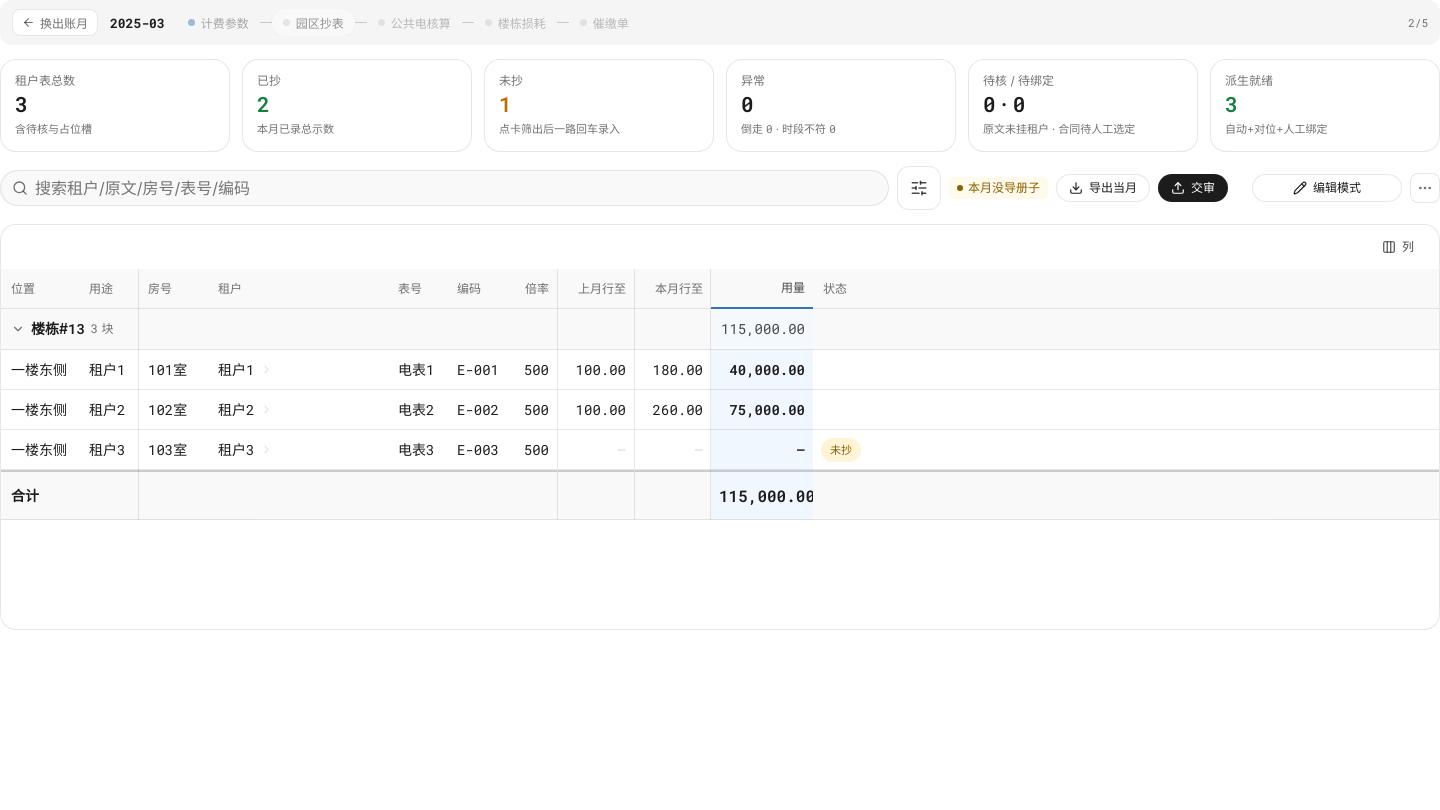
Scenario: METER-TIMELINE-SPEC §10.4 · 本月册子:整段零记录出一句,部分有逐行打标 › ❗M 档 · 整段零记录:签在筛选条里(M 档没有摘要行),不另起一行
The width and height of the screenshot is (1440, 810).
What coordinates should you click on to do the following:
click the button with class "mt5-note"
I would click on:
 (998, 188)
Its box is [949,177,1048,199].
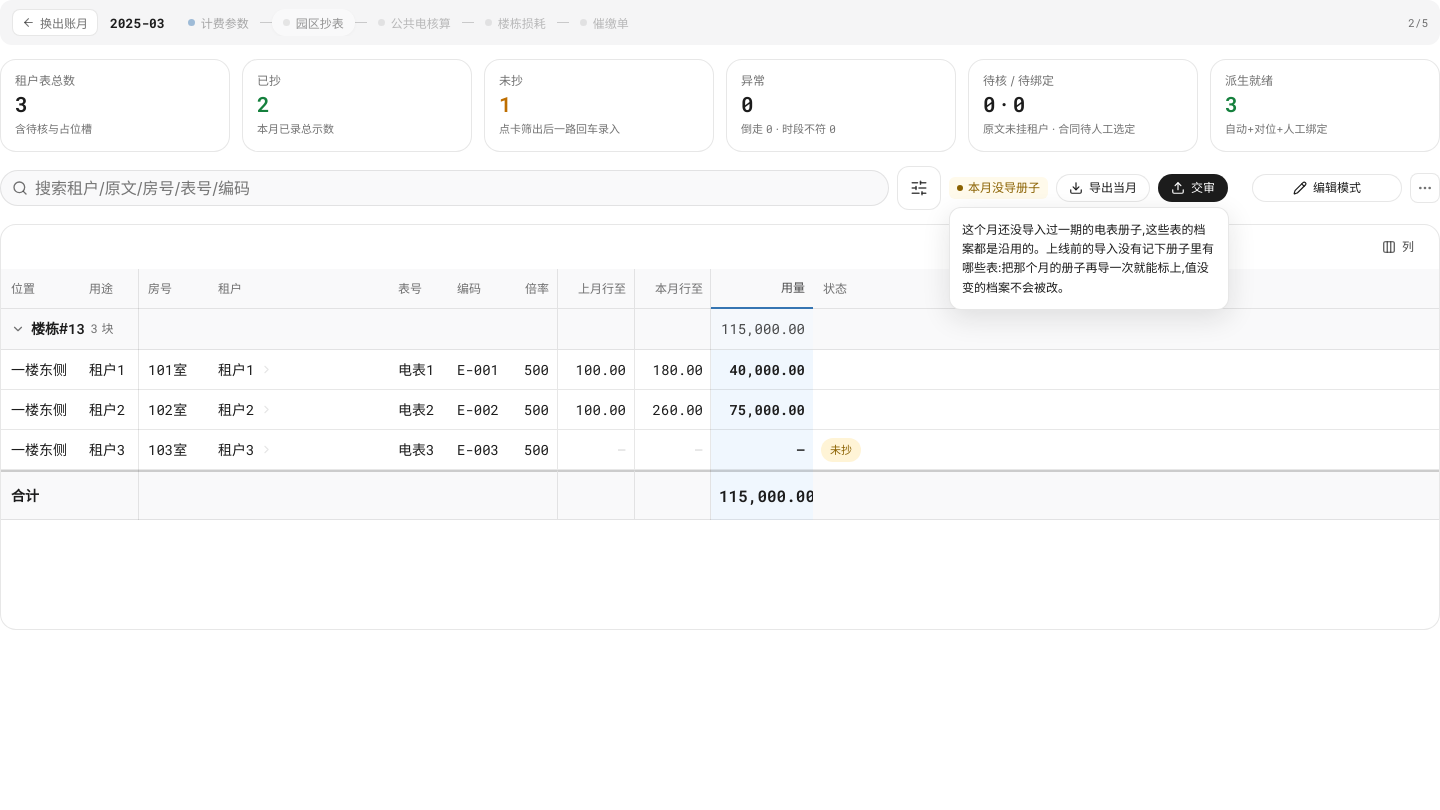
Result: the text with class "mt5-note-t" shows "这个月还没导入过一期的电表册子" at [962,222,1214,295]
